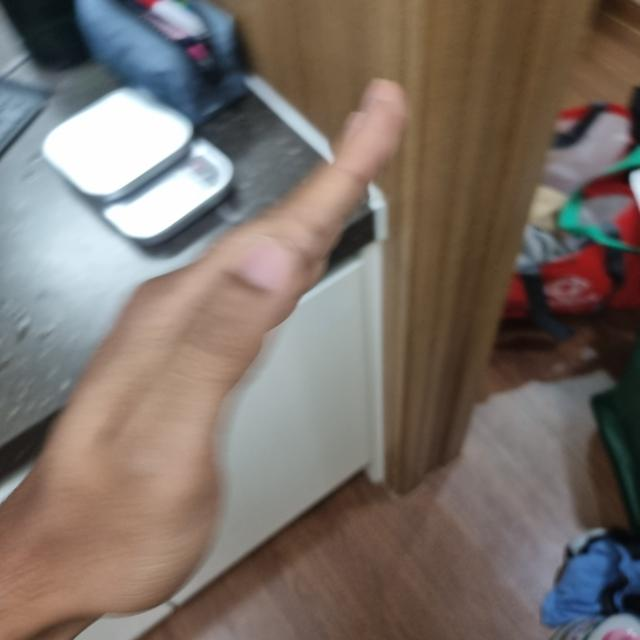Paper: (0, 85, 408, 636)
